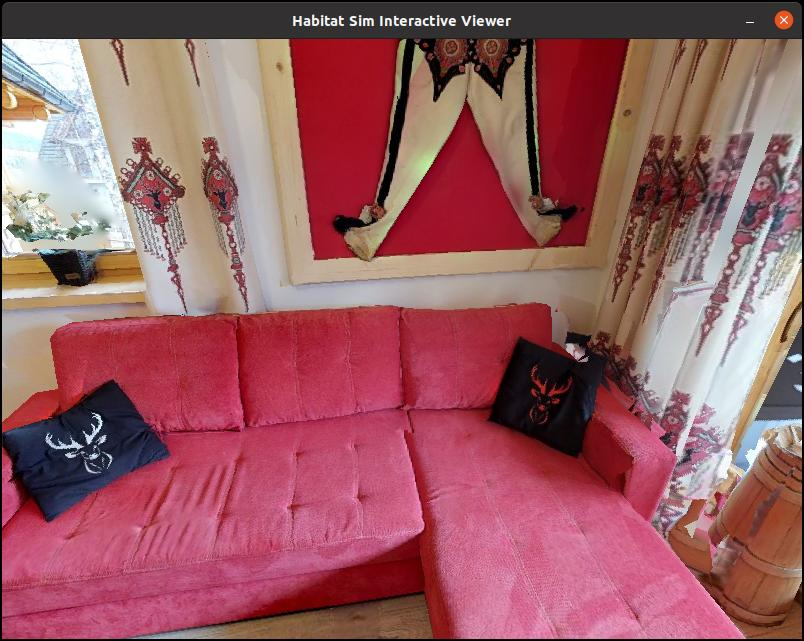sofa: (0, 279, 762, 641)
